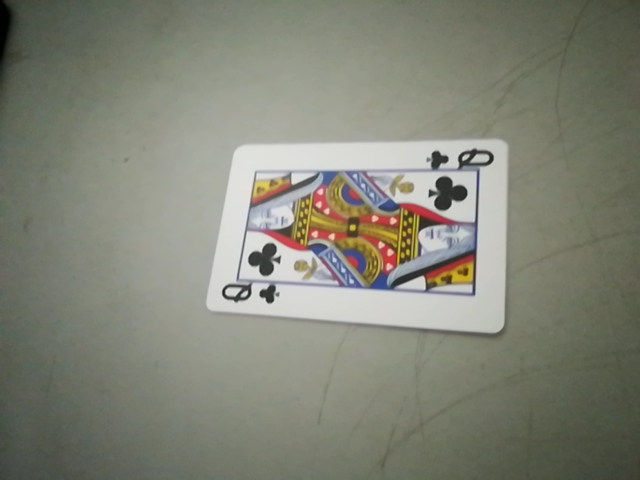mh q: (215, 279, 288, 313), (431, 144, 496, 175)
